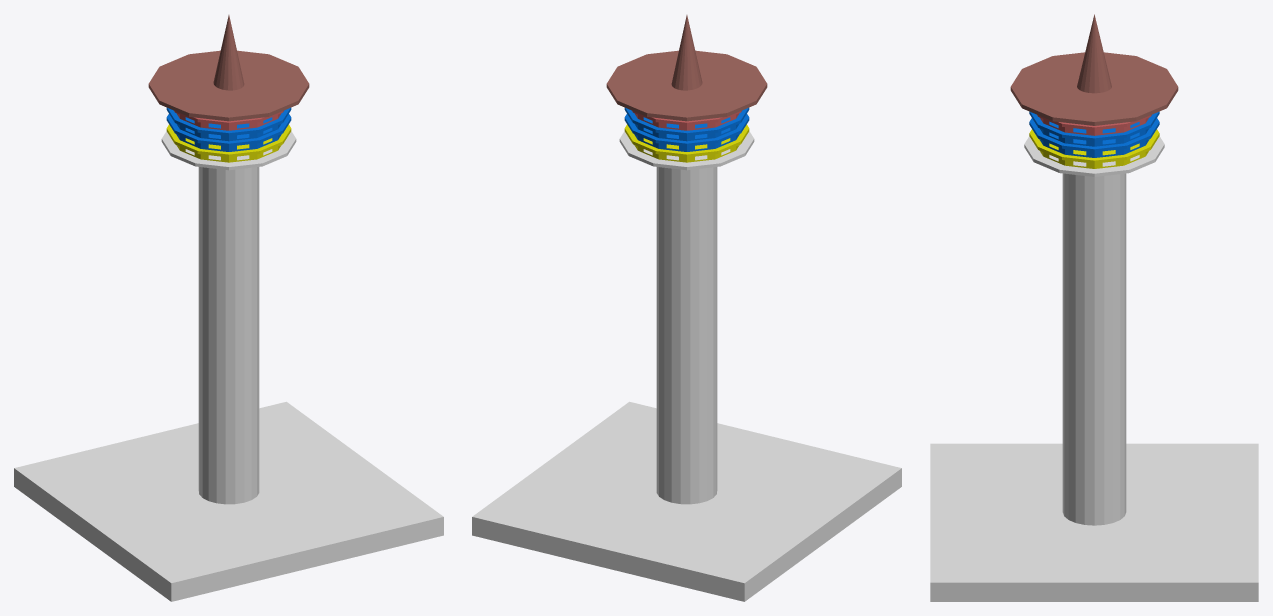
The model's file is 전망대 모델링.fbx.
The picture shows the model from 3 angles, left to right: view 1: azimuth 30°, elevation 25°; view 2: azimuth 150°, elevation 25°; view 3: azimuth 270°, elevation 25°; orthographic projection. The views are drawn at different scales.
Visible parts, largest first — view 1: pCube1, pCylinder11; view 2: pCube1, pCylinder11; view 3: pCube1, pCylinder11.
Part boxes in pixels (x1=…): pCube1: x1=14, y1=401, x2=443, y2=601; pCylinder11: x1=148, y1=15, x2=309, y2=504; pCube1: x1=472, y1=401, x2=901, y2=601; pCylinder11: x1=606, y1=15, x2=767, y2=504; pCube1: x1=930, y1=443, x2=1258, y2=601; pCylinder11: x1=1010, y1=14, x2=1178, y2=525.
Size of the model in its own units: 2.92 by 5.08 by 2.92.
